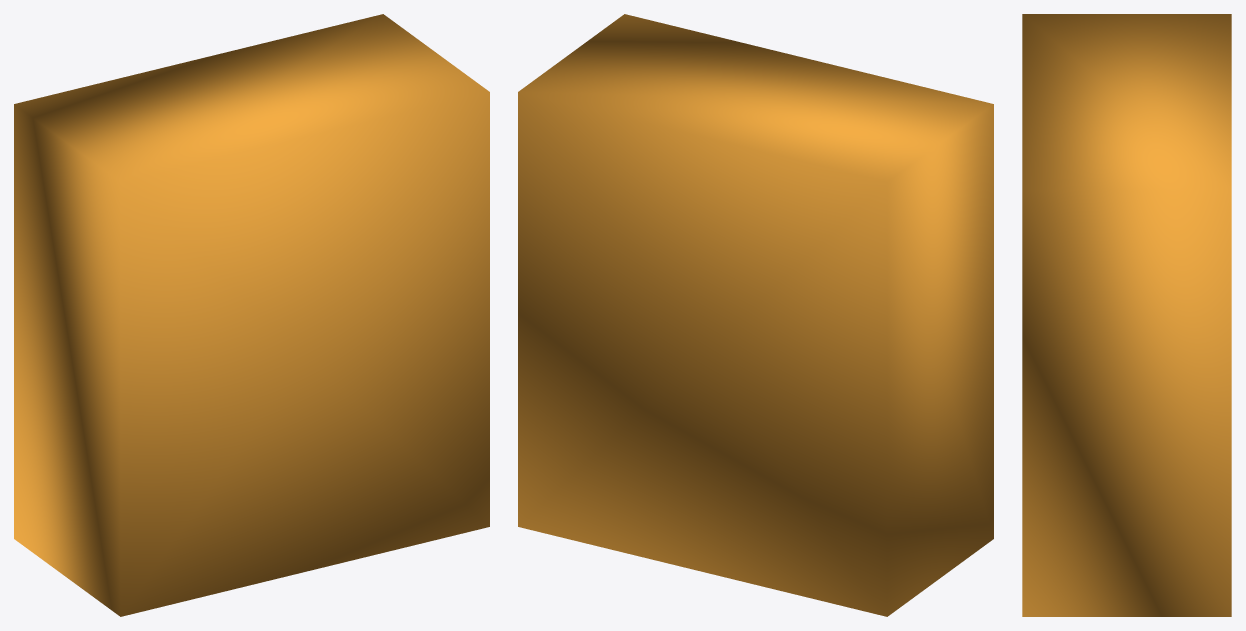
Rendered from SM_Tourelle_Corps.obj.
3 views of the same model, side by side, from view 1: azimuth 30°, elevation 25°; view 2: azimuth 150°, elevation 25°; view 3: azimuth 270°, elevation 25° (orthographic). The views are drawn at different scales.
Bounding box in the file's own units: 1600 × 1800 × 800.
